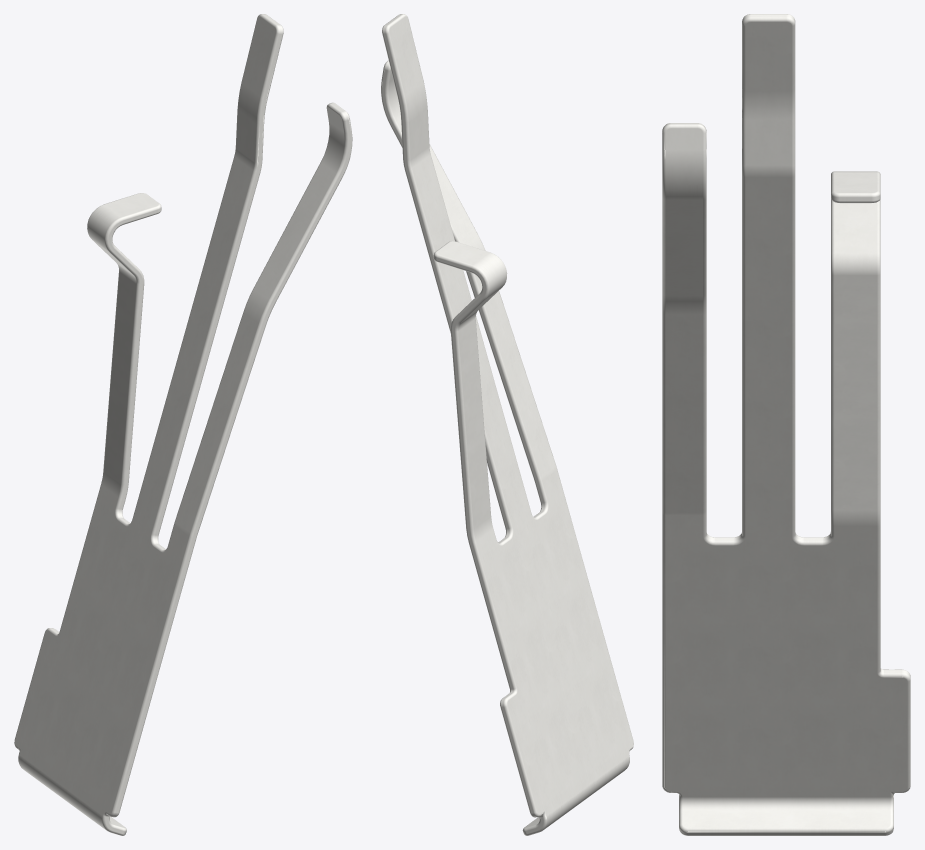
File: searspring.glb
The picture shows the model from 3 angles, left to right: view 1: azimuth 30°, elevation 25°; view 2: azimuth 150°, elevation 25°; view 3: azimuth 270°, elevation 25°; orthographic projection. The views are drawn at different scales.
Parts seen in each view (by area): view 1: 三叉彈簧_預設.stp-1; view 2: 三叉彈簧_預設.stp-1; view 3: 三叉彈簧_預設.stp-1.
Boxes of the visible parts, x1,y1,x2,y2 form: 三叉彈簧_預設.stp-1: (14, 14, 352, 835); 三叉彈簧_預設.stp-1: (381, 14, 633, 835); 三叉彈簧_預設.stp-1: (662, 14, 910, 835).
Bounding box in the file's own units: 0.0197 × 0.0579 × 0.014.
Materials: 1 (1 with a texture image).
